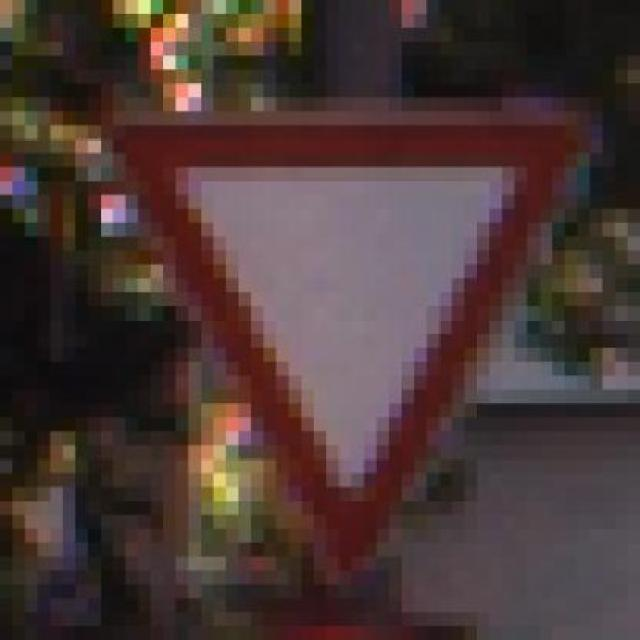Give Way: (88, 97, 615, 571)
